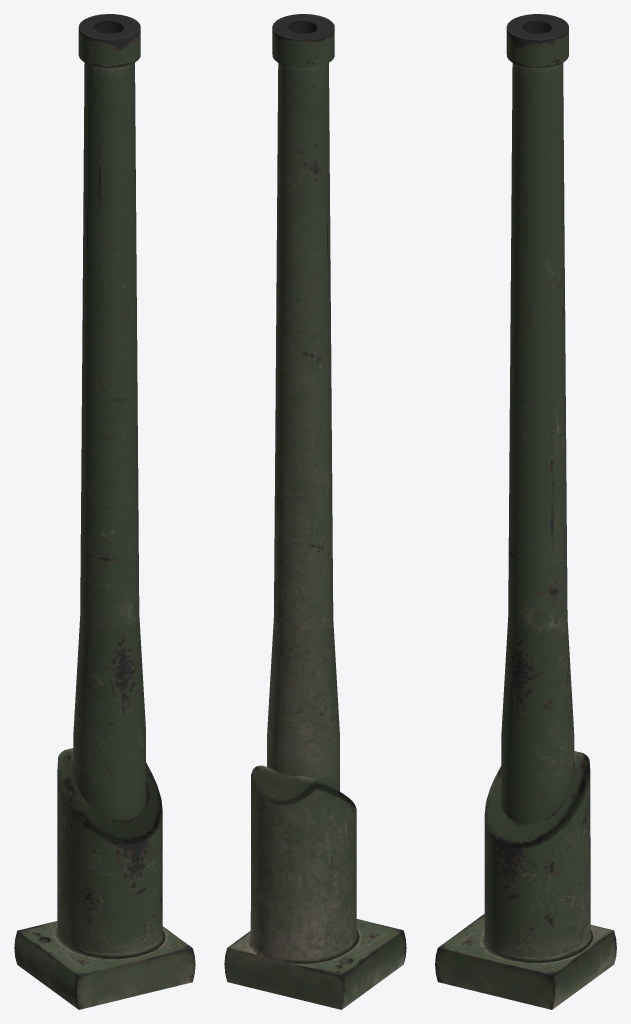
Rendered from Gun_03.glb.
3 renders of one model, left to right at view 1: azimuth 30°, elevation 25°; view 2: azimuth 150°, elevation 25°; view 3: azimuth 330°, elevation 25°, orthographic.
Visible parts, largest first — view 1: set_0_group_0; view 2: set_0_group_0; view 3: set_0_group_0.
Part boxes in pixels (x1,y1,x2,y2): set_0_group_0: (14, 14, 195, 1009); set_0_group_0: (224, 14, 406, 1009); set_0_group_0: (435, 14, 616, 1009).
Size of the model in its own units: 0.7204 by 5.43 by 0.6462.
Materials: 1 (1 with a texture image).
